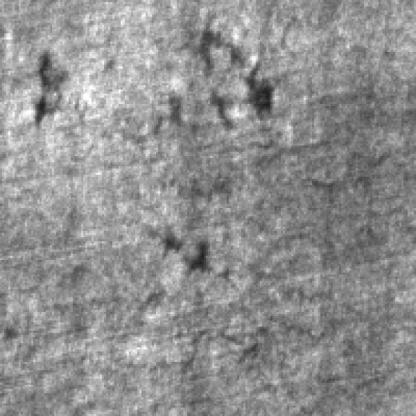crazing: (52, 223, 318, 370), (66, 9, 308, 141)
